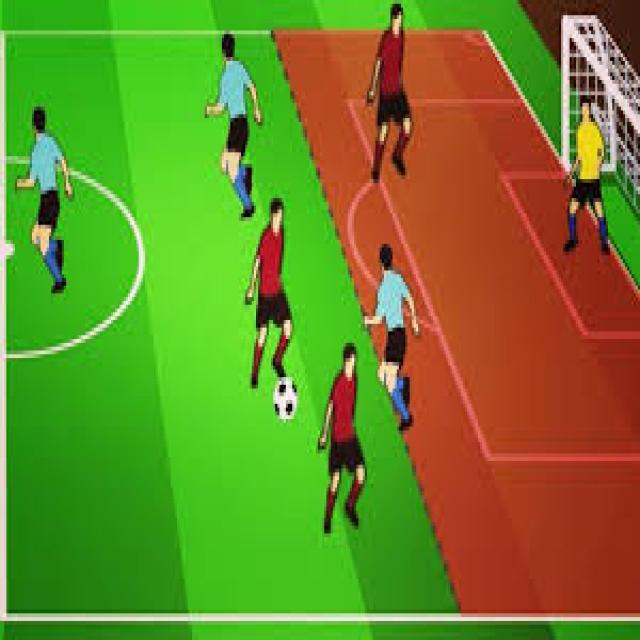offside: (374, 0, 413, 442)
